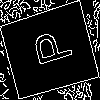P: (24, 26, 74, 71)
